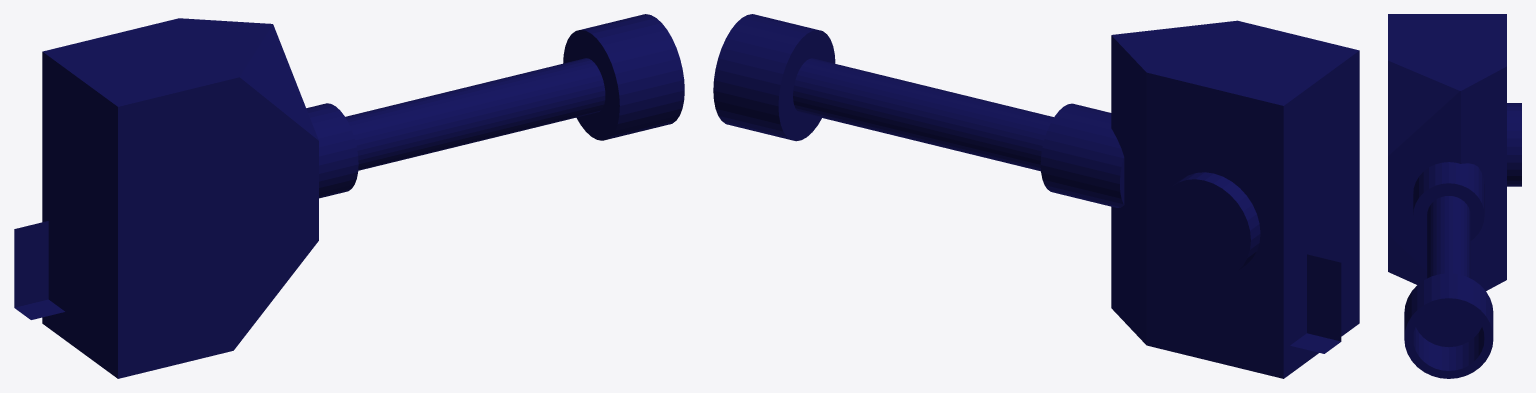
Rendered from PlayerHead.fbx.
The picture shows the model from 3 angles, left to right: view 1: azimuth 30°, elevation 25°; view 2: azimuth 150°, elevation 25°; view 3: azimuth 270°, elevation 25°; orthographic projection. The views are drawn at different scales.
Visible parts, largest first — view 1: Head; view 2: Head; view 3: Head.
Boxes of the visible parts, box(x1,y1,x2,y2) form: Head: box(14, 14, 684, 378); Head: box(713, 14, 1359, 378); Head: box(1388, 14, 1521, 378).
Size of the model in its own units: 212 by 90.14 by 51.11.
1 material, 1 textured.
